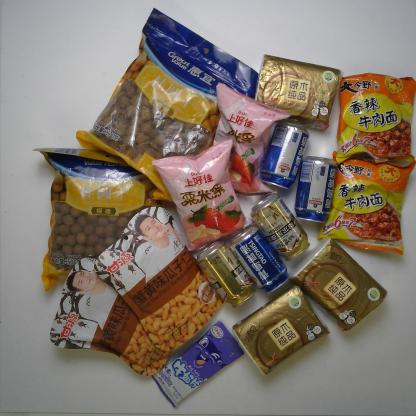Alcohol: (194, 239, 256, 310), (229, 225, 291, 295), (250, 192, 310, 262), (257, 120, 310, 192), (294, 153, 338, 224)
Candy: (150, 318, 246, 410)
Dried Food: (76, 5, 259, 205), (32, 144, 160, 294)
Dried Fruit: (91, 204, 225, 354), (48, 256, 171, 379)
Instant Noodles: (318, 150, 416, 258), (335, 71, 416, 163)
Puffed Food: (149, 138, 248, 253), (211, 80, 292, 203)
Tissue: (287, 236, 387, 333), (230, 284, 331, 378), (253, 54, 342, 132)
